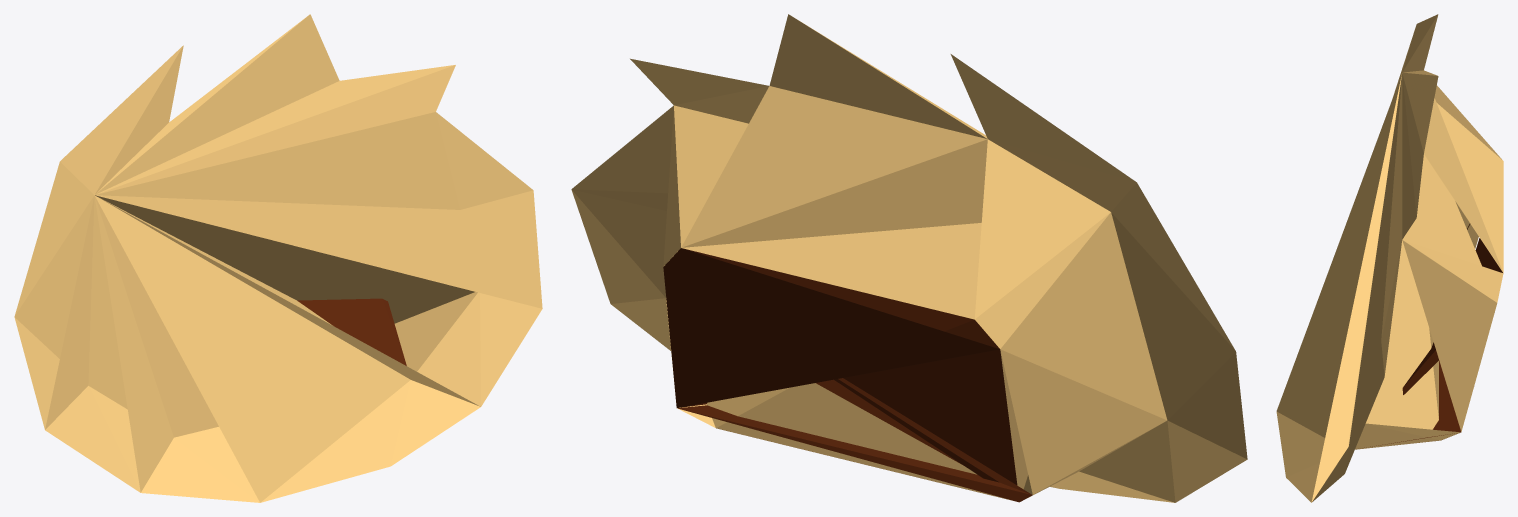
The model's file is S.S._Dolphin_part.022.obj.
3 renders of one model, left to right at view 1: azimuth 30°, elevation 25°; view 2: azimuth 150°, elevation 25°; view 3: azimuth 270°, elevation 25°, orthographic. The views are drawn at different scales.
Parts seen in each view (by area): view 1: S.S._Dolphin_part.022; view 2: S.S._Dolphin_part.022; view 3: S.S._Dolphin_part.022.
Boxes of the visible parts, x1,y1,x2,y2 form: S.S._Dolphin_part.022: [14, 14, 542, 502]; S.S._Dolphin_part.022: [571, 14, 1247, 502]; S.S._Dolphin_part.022: [1276, 14, 1503, 502].
Bounding box in the file's own units: 1.4 × 1.02 × 0.5274.
